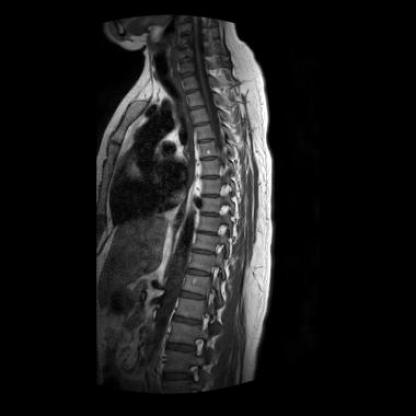Demyelinating Plaquesrotation: (199, 209, 221, 221), (197, 136, 217, 146)
Hemangiomatarotation: (189, 253, 214, 272), (194, 124, 213, 138)
